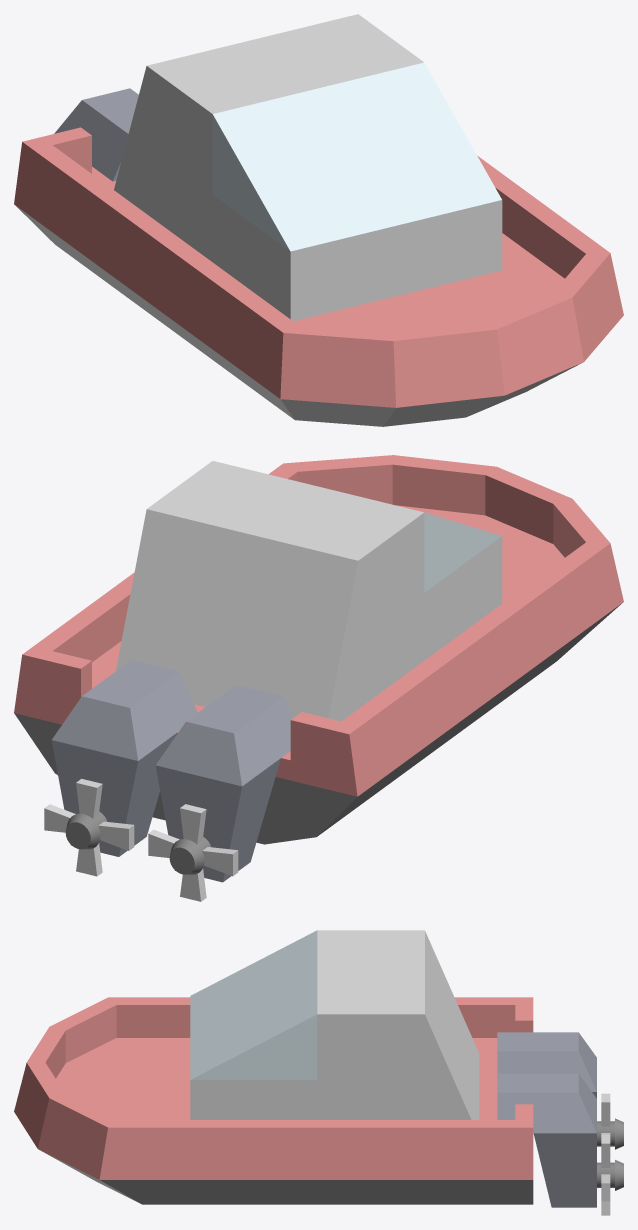
File: watercraftPack_011.glb
The picture shows the model from 3 angles, top to bottom: view 1: azimuth 30°, elevation 25°; view 2: azimuth 150°, elevation 25°; view 3: azimuth 270°, elevation 25°; orthographic projection. The views are drawn at different scales.
Visible parts, largest first — view 1: Mesh5 Group1 Model, Mesh3 Group4 Group1 Model; view 2: Mesh5 Group1 Model, Mesh3 Group4 Group1 Model, Mesh1 Group2 Group1 Model, Mesh4 Group5 Group1 Model, Mesh2 Group3 Group1 Model; view 3: Mesh5 Group1 Model, Mesh1 Group2 Group1 Model, Mesh3 Group4 Group1 Model, Mesh4 Group5 Group1 Model.
Boxes of the visible parts, <box> form: Mesh5 Group1 Model: <box>14,14,623,426</box>; Mesh3 Group4 Group1 Model: <box>54,88,138,181</box>; Mesh5 Group1 Model: <box>14,455,623,844</box>; Mesh3 Group4 Group1 Model: <box>155,685,292,882</box>; Mesh1 Group2 Group1 Model: <box>51,659,197,856</box>; Mesh4 Group5 Group1 Model: <box>44,778,134,876</box>; Mesh2 Group3 Group1 Model: <box>148,804,238,901</box>; Mesh5 Group1 Model: <box>14,930,533,1204</box>; Mesh1 Group2 Group1 Model: <box>497,1073,623,1207</box>; Mesh3 Group4 Group1 Model: <box>497,1032,623,1149</box>; Mesh4 Group5 Group1 Model: <box>601,1135,610,1215</box>.
Size of the model in its own units: 1.78 by 1.33 by 3.37.
